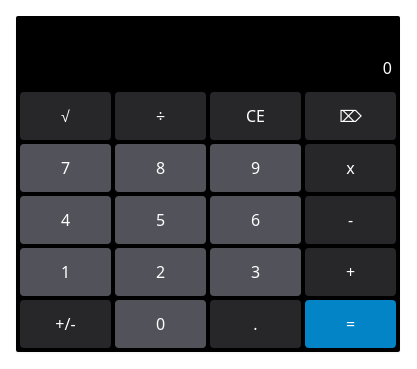
Scenario: App › addition with proper data
Note: Simulate adding numbers and verifying the result
What coordinates should you click on to do the following:
click the button "2"
I would click on:
 (160, 272)
Its box is [115, 248, 206, 296].
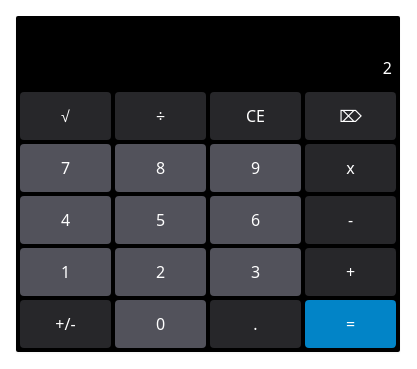
What coordinates should you click on to do the following:
click the button "+"
I would click on:
 (350, 272)
Its box is [305, 248, 396, 296].
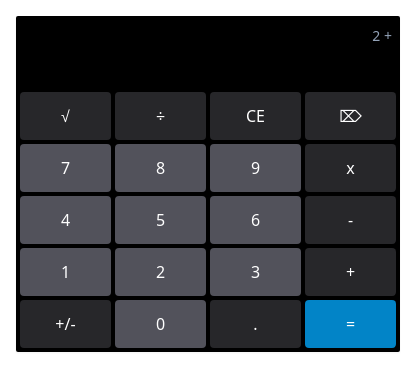
What coordinates should you click on to do the following:
click the button "3"
I would click on:
 (256, 272)
Its box is [210, 248, 301, 296].
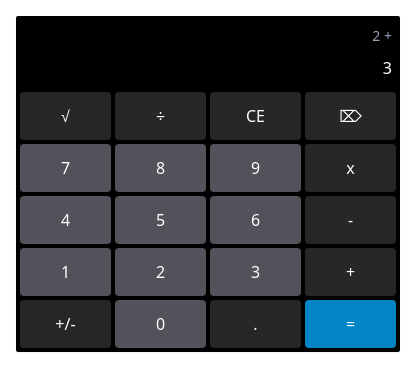
What coordinates should you click on to do the following:
click the button "="
I would click on:
 (350, 324)
Its box is [305, 300, 396, 348].
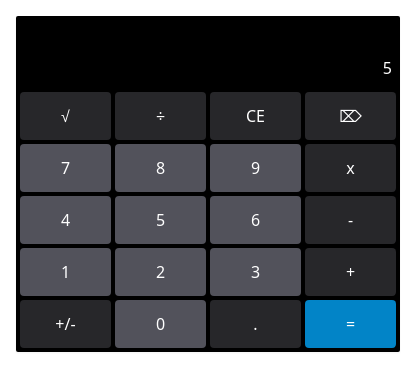
Expected: the text with test id "calculation" reads "5", [383, 57, 392, 79]
